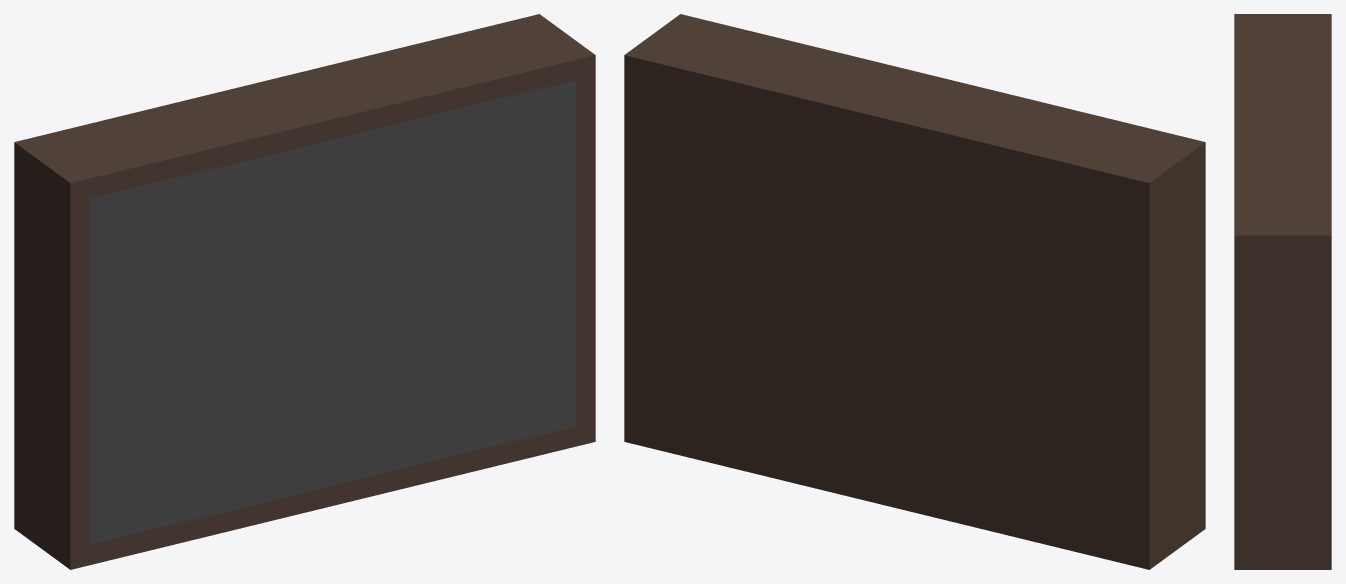
File: Modello completo.obj
3 renders of one model, left to right at view 1: azimuth 30°, elevation 25°; view 2: azimuth 150°, elevation 25°; view 3: azimuth 270°, elevation 25°, orthographic. The views are drawn at different scales.
Visible parts, largest first — view 1: Mtl6, Mtl7; view 2: Mtl7; view 3: Mtl7.
Part boxes in pixels (x1,y1,x2,y2): Mtl6: (90,80,576,544); Mtl7: (14,14,595,569); Mtl7: (624,14,1205,569); Mtl7: (1234,14,1331,569).
Bounding box in the file's own units: 0.27 × 0.19 × 0.05.
